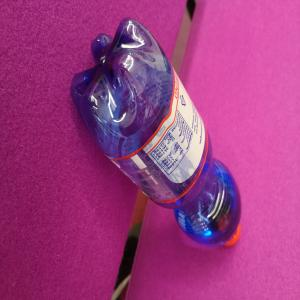Plastic-bottle: (70, 18, 244, 251)
